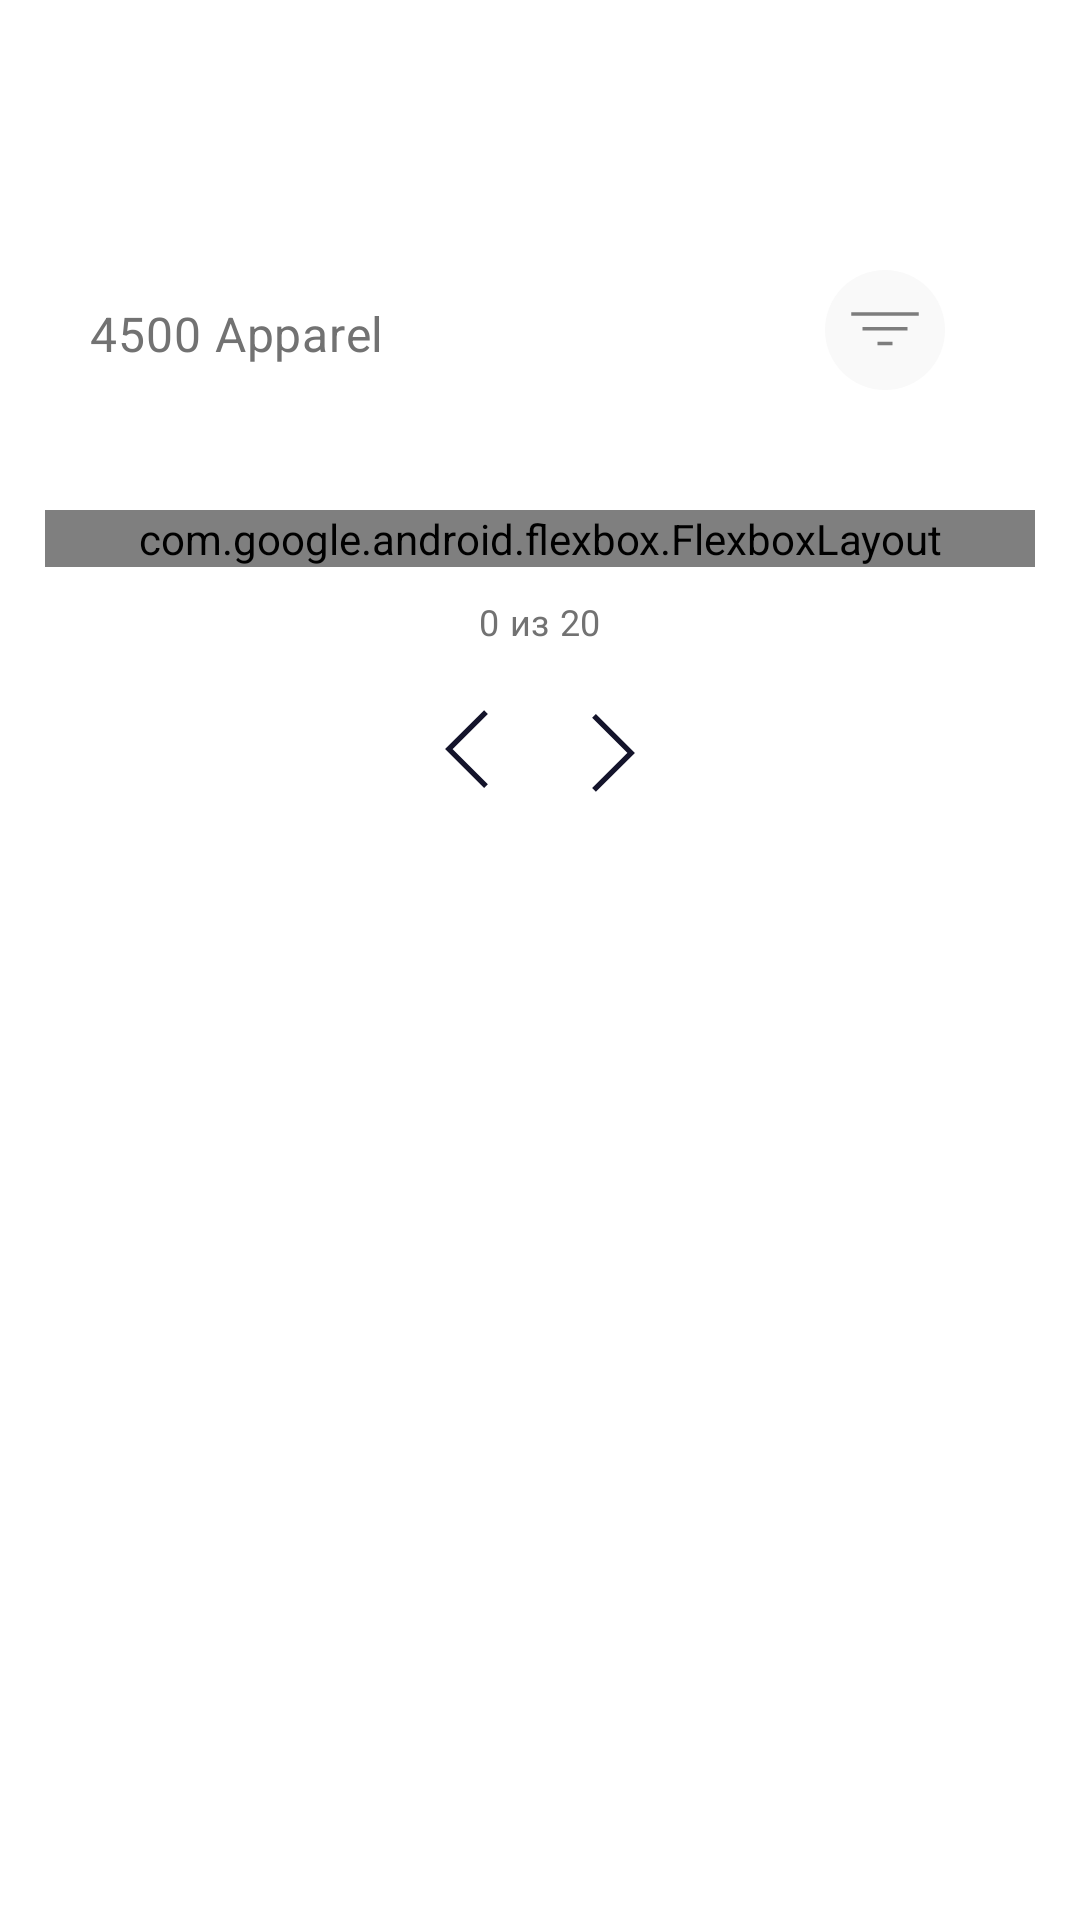

Where to tap for icons on this 1080px x 1920px app screen, as (x=x, y=y):
filter: (x=885, y=329)
